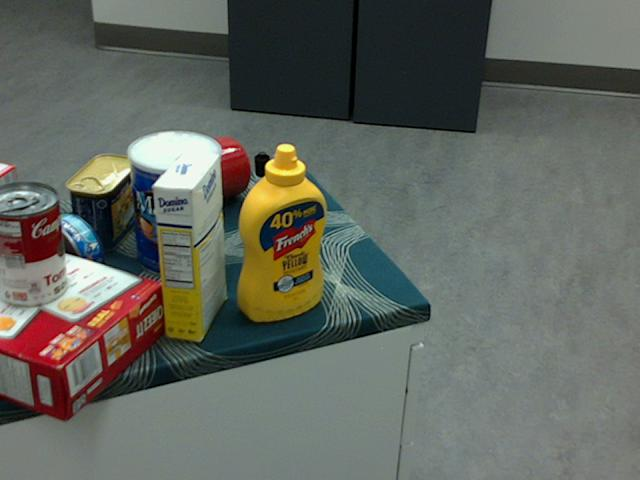cracker_box: (0, 230, 164, 421)
gelatin_box: (0, 162, 21, 233)
large_marker: (254, 151, 270, 244)
master_chef_can: (125, 130, 220, 279)
mug: (161, 135, 249, 213)
mustard_bottle: (236, 142, 327, 321)
potted_meat_can: (65, 152, 137, 252)
sugar_box: (151, 150, 227, 341)
tomato_soup_can: (0, 181, 67, 307)
tuna_fish_can: (27, 213, 103, 295)
